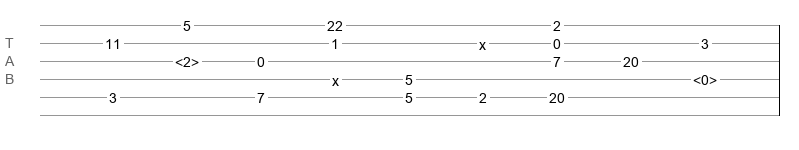0: (257, 54, 265, 64), (553, 36, 561, 46)
1: (331, 36, 339, 46)
11: (105, 36, 121, 46)
2: (479, 90, 487, 100), (553, 18, 561, 28)
20: (549, 90, 565, 100), (623, 54, 639, 64)
22: (327, 18, 343, 28)
3: (109, 90, 117, 100), (701, 36, 709, 46)
5: (183, 18, 191, 28), (405, 90, 413, 100), (405, 72, 413, 82)
7: (257, 90, 265, 100), (553, 54, 561, 64)
harmonic: (175, 54, 199, 64), (693, 72, 717, 82)
x: (332, 73, 339, 81), (479, 37, 486, 45)
